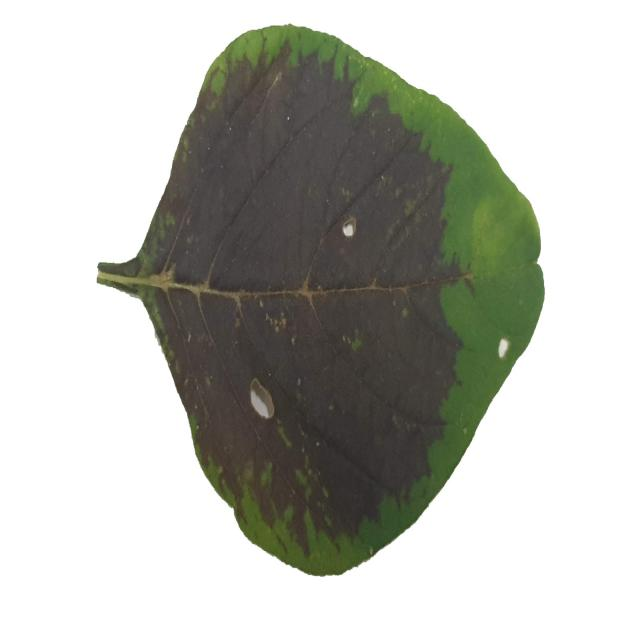Medicinal-Arive Dantu: (93, 18, 546, 577)
